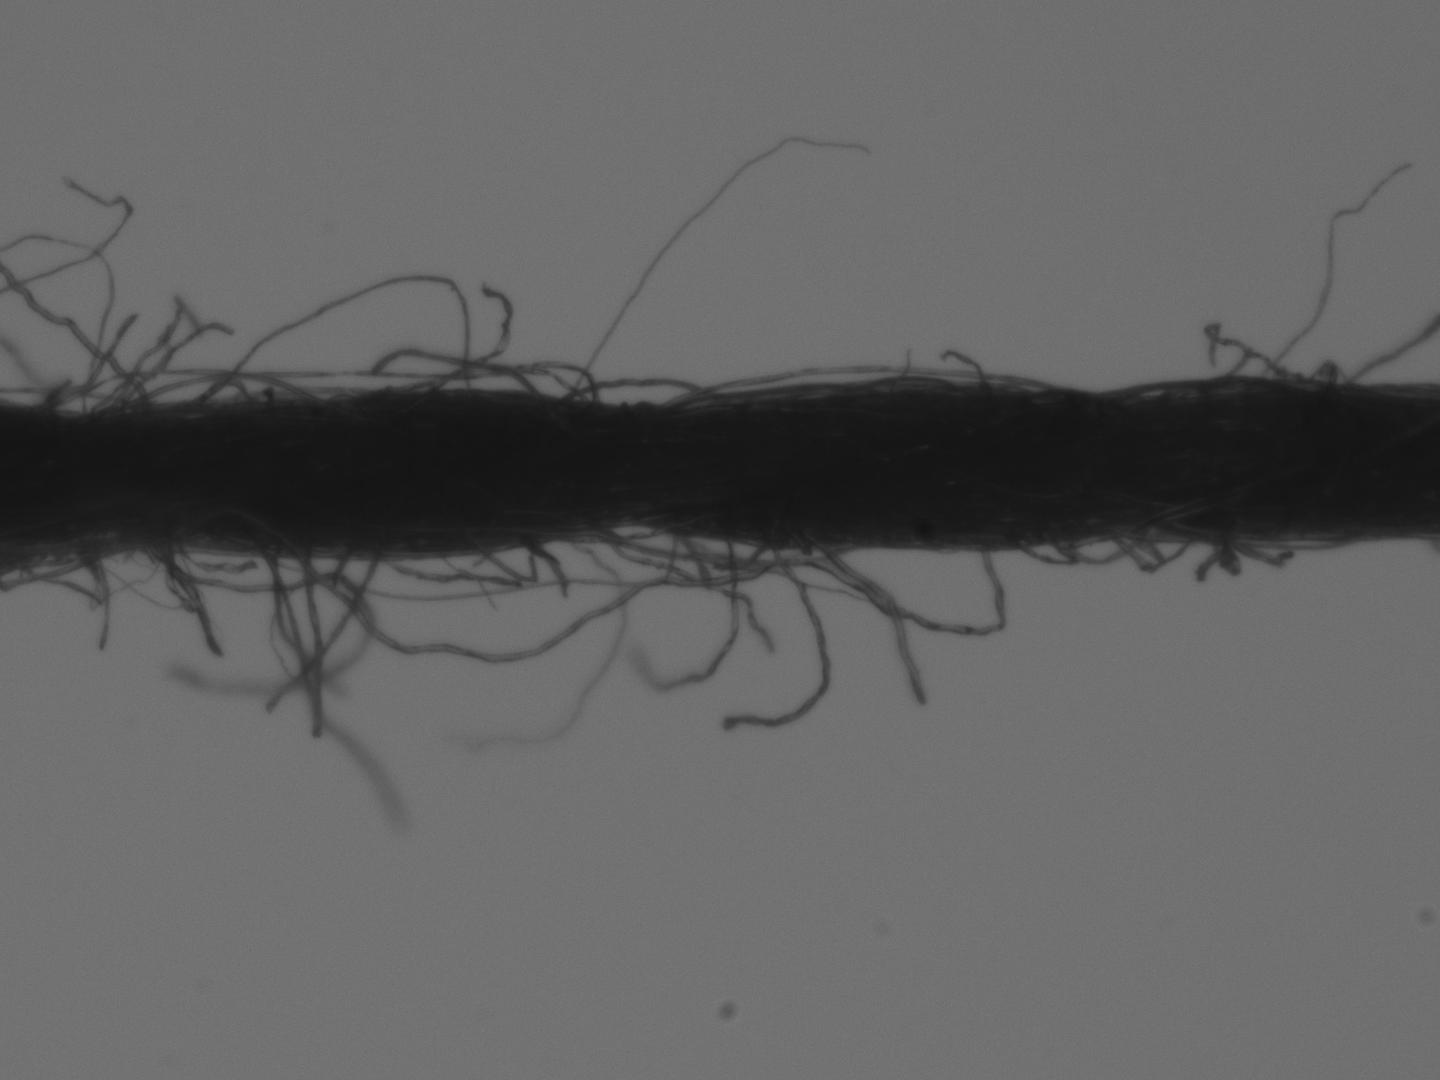loop_fiber: (33, 356, 608, 429), (793, 534, 1009, 639), (582, 526, 846, 587), (1204, 318, 1370, 390), (1000, 523, 1205, 577), (369, 539, 550, 593), (15, 546, 156, 615), (139, 542, 219, 656)
protruding_fiber: (558, 133, 875, 407), (728, 542, 836, 732)
